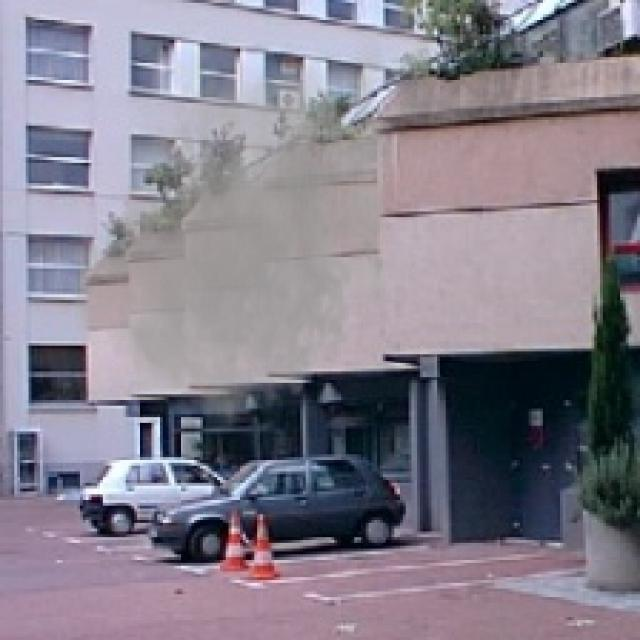Smoke: (59, 23, 414, 446)
